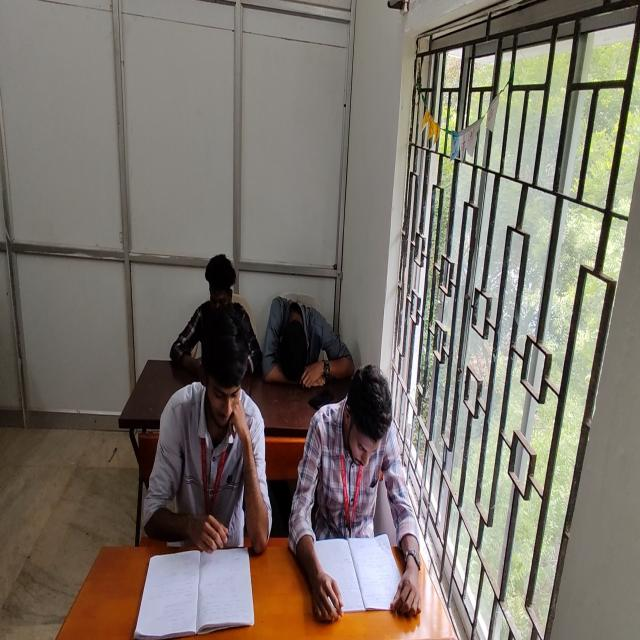reading: (142, 304, 274, 562), (288, 362, 413, 624)
sleeping: (262, 295, 352, 387)
using_mobile: (170, 254, 263, 380)
